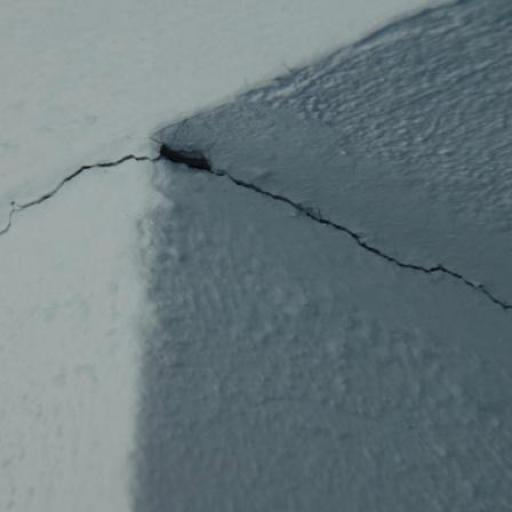spalling: (1, 144, 511, 317)
